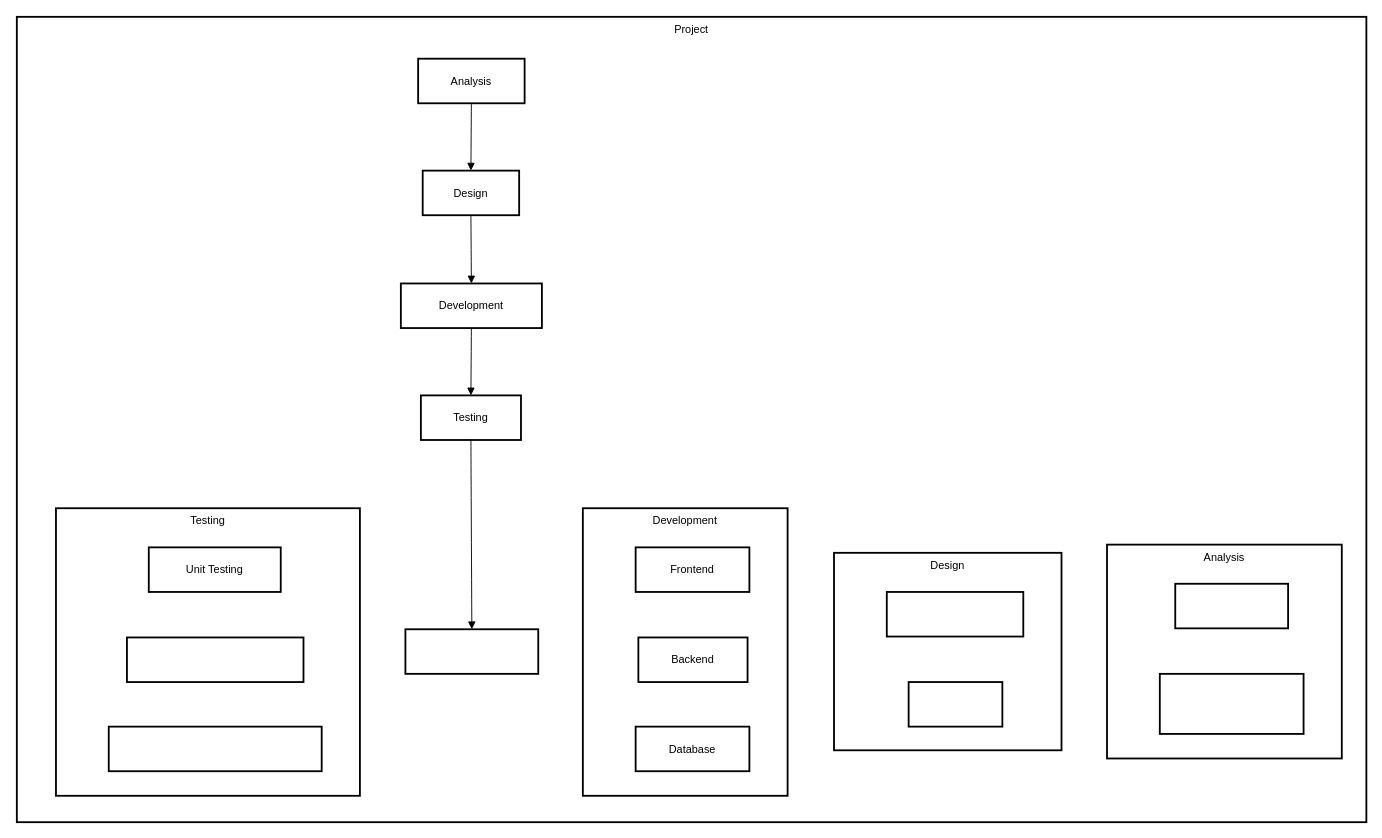
This 1382x838 diagram has some shape labels left out. Each missing label, with the centre of its shape:
"Architecture" goes at (954,614).
"Deployment" goes at (471,651).
"Integration Testing" goes at (215,659).
"Requirements Analysis" goes at (1231,703).
"Research" goes at (1231,605).
"UI/UX" goes at (955,704).
"User Acceptance Testing" goes at (214,748).
